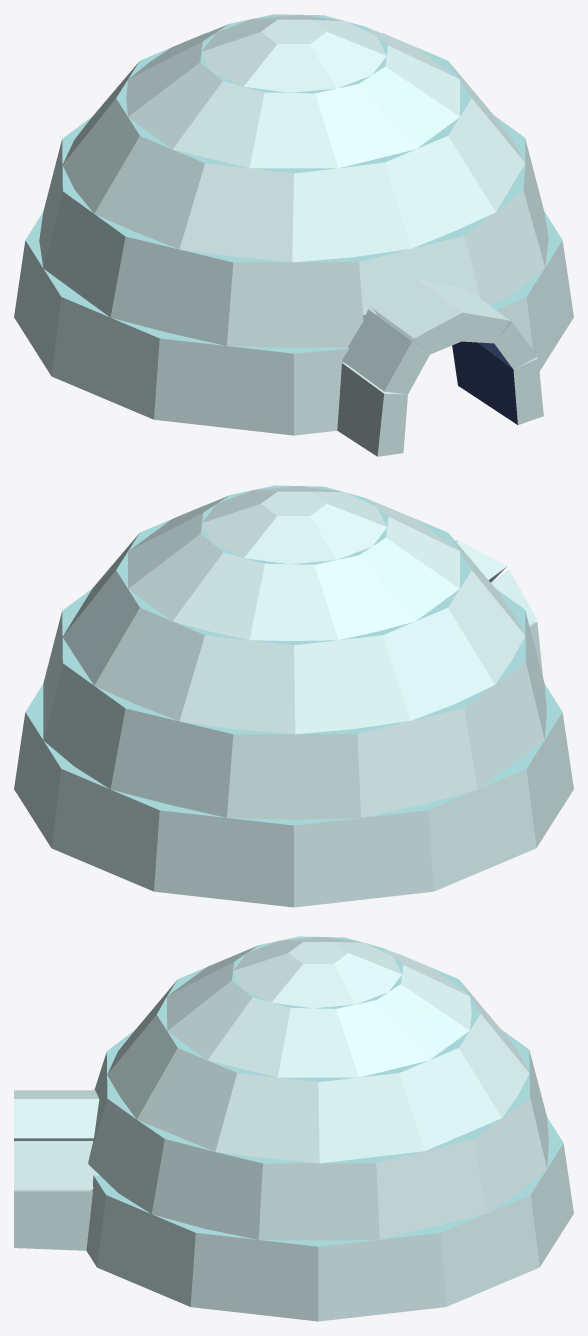
The model's file is igloo.glb.
3 views of the same model, one above another, from view 1: azimuth 30°, elevation 25°; view 2: azimuth 150°, elevation 25°; view 3: azimuth 270°, elevation 25° (orthographic). The views are drawn at different scales.
Parts seen in each view (by area): view 1: igloo; view 2: igloo; view 3: igloo.
Part boxes in pixels (x1,y1,x2,y2): igloo: (14, 14, 573, 456); igloo: (14, 485, 573, 907); igloo: (14, 936, 573, 1321).
Bounding box in the file's own units: 4 × 2.25 × 4.38.
1 material, 1 textured.
